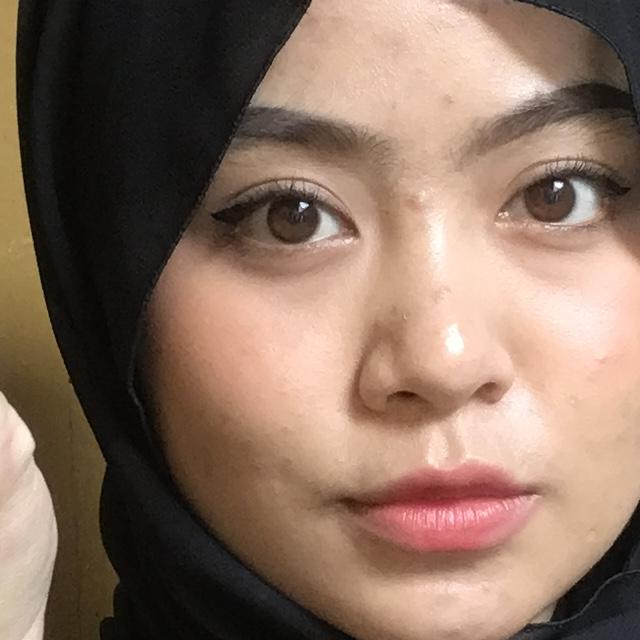kapan: (0, 0, 290, 640)
